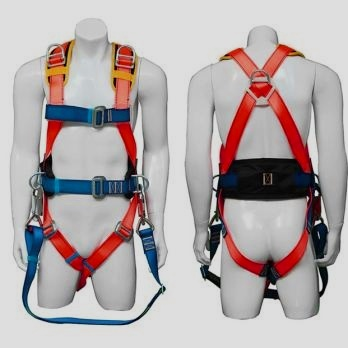safety belt: (212, 50, 323, 288), (39, 42, 136, 278)
